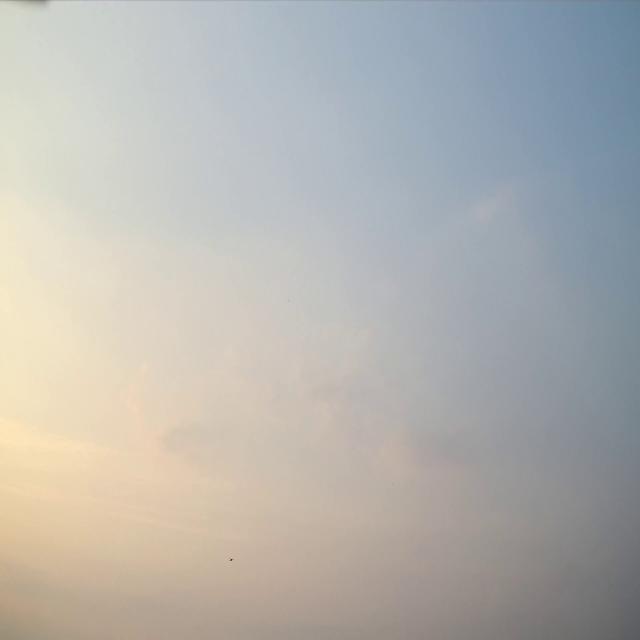drone: (229, 558, 233, 561)
